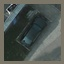car: (19, 12, 49, 48)
